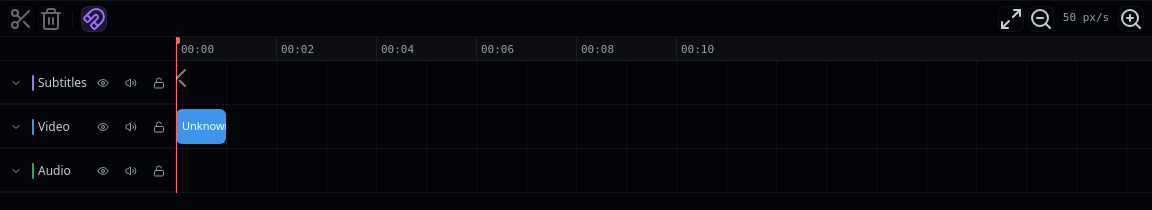
it: track controls › disables destructive clip actions while its track is locked
The width and height of the screenshot is (1152, 210).
Click the button named "Lock Video track" at [159, 126], box [147,114,171,138]
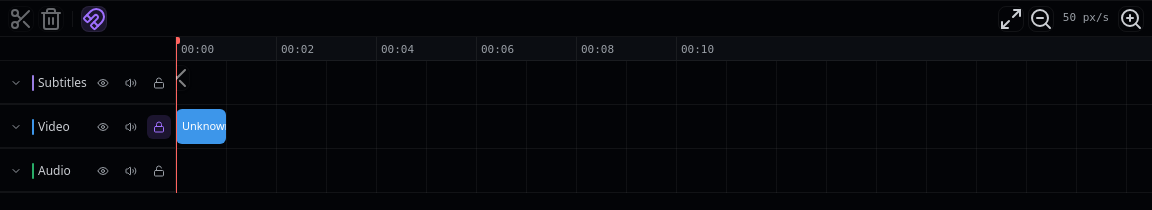
Right-click the button "Unknown clip" at [201, 126], box [176,109,226,144]
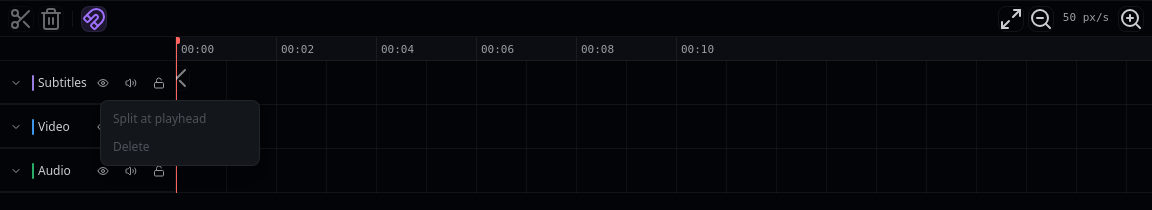
expect the menu item "Delete" is disabled: met, box [105,133,255,161]
